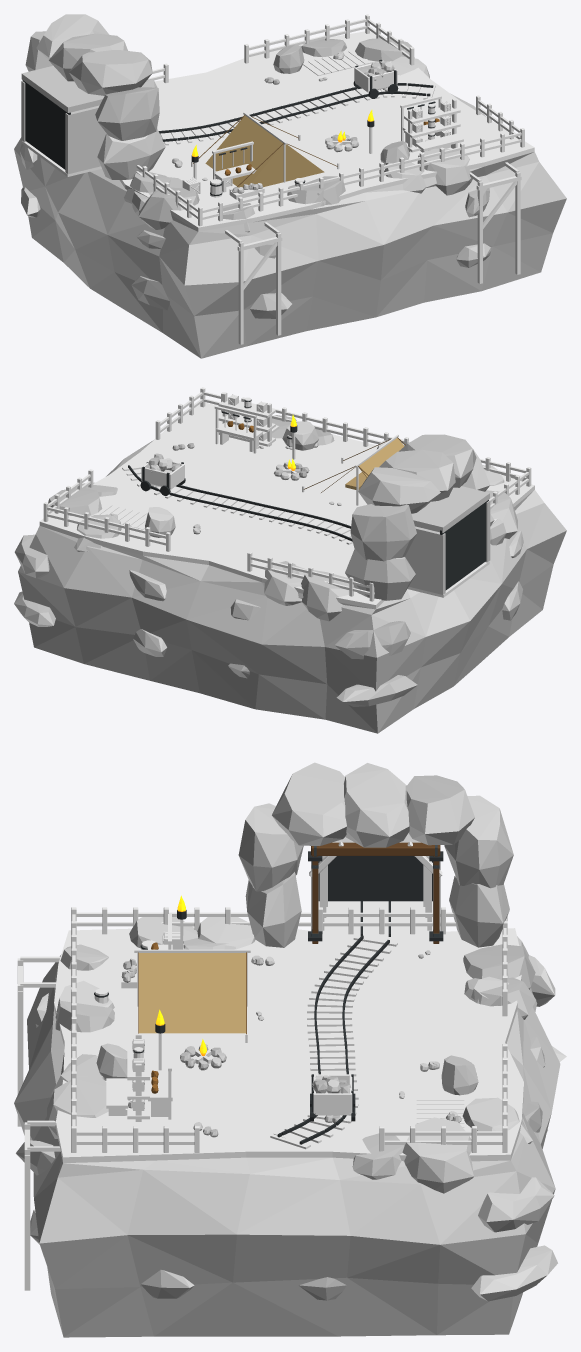
File: entrance_camp.glb
3 renders of one model, top to bottom at view 1: azimuth 30°, elevation 25°; view 2: azimuth 150°, elevation 25°; view 3: azimuth 270°, elevation 25°, orthographic. The views are drawn at different scales.
Visible parts, largest first — view 1: entrance_camp_Mine_Rock, entrance_camp_Mine_Earth, entrance_camp_Mine_Wood, entrance_camp_Mine_WoodLight, entrance_camp_Mine_Metal, entrance_camp_Mine_Canvas, entrance_camp_Mine_Wood.001, entrance_camp_Mine_Wood.002; view 2: entrance_camp_Mine_Rock, entrance_camp_Mine_Earth, entrance_camp_Mine_WoodLight, entrance_camp_Mine_Wood, entrance_camp_Mine_Metal, entrance_camp_Mine_Canvas, entrance_camp_Mine_Wood.001; view 3: entrance_camp_Mine_Rock, entrance_camp_Mine_Earth, entrance_camp_Mine_Wood, entrance_camp_Mine_WoodLight, entrance_camp_Mine_Canvas, entrance_camp_Mine_Metal, entrance_camp_G04_wood.002.
Part boxes in pixels (x1,y1,x2,y2): entrance_camp_Mine_Rock: [14, 14, 566, 358]; entrance_camp_Mine_Earth: [22, 31, 534, 231]; entrance_camp_Mine_Wood: [142, 14, 524, 344]; entrance_camp_Mine_WoodLight: [136, 18, 521, 251]; entrance_camp_Mine_Metal: [22, 59, 435, 169]; entrance_camp_Mine_Canvas: [205, 115, 324, 187]; entrance_camp_Mine_Wood.001: [182, 100, 450, 193]; entrance_camp_Mine_Wood.002: [210, 104, 435, 197]; entrance_camp_Mine_Rock: [14, 415, 566, 733]; entrance_camp_Mine_Earth: [39, 402, 534, 609]; entrance_camp_Mine_WoodLight: [47, 392, 528, 594]; entrance_camp_Mine_Wood: [43, 387, 531, 601]; entrance_camp_Mine_Metal: [128, 411, 488, 590]; entrance_camp_Mine_Canvas: [345, 438, 404, 489]; entrance_camp_Mine_Wood.001: [228, 394, 267, 441]; entrance_camp_Mine_Rock: [14, 762, 566, 1337]; entrance_camp_Mine_Earth: [54, 901, 523, 1163]; entrance_camp_Mine_Wood: [17, 841, 507, 1290]; entrance_camp_Mine_WoodLight: [18, 912, 506, 1160]; entrance_camp_Mine_Canvas: [139, 953, 245, 1033]; entrance_camp_Mine_Metal: [155, 851, 443, 1144]; entrance_camp_G04_wood.002: [311, 842, 440, 943].
Bounding box in the file's own units: 30.16 × 16.66 × 25.66.
